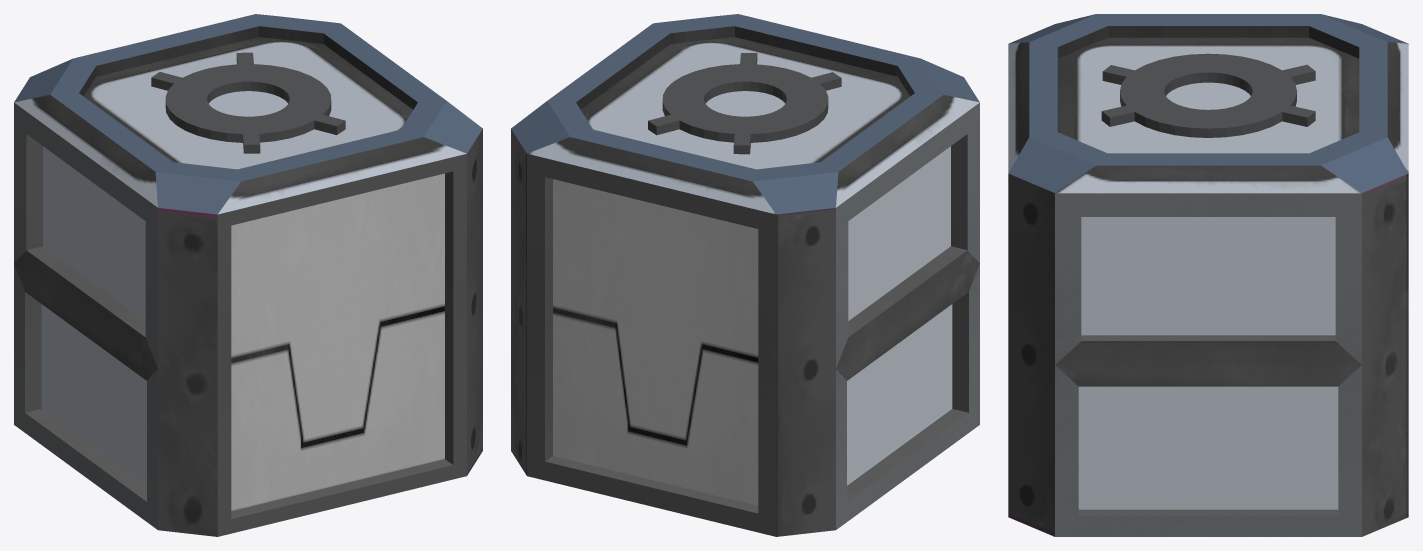
File: MetalCrate.fbx
The picture shows the model from 3 angles, left to right: view 1: azimuth 30°, elevation 25°; view 2: azimuth 150°, elevation 25°; view 3: azimuth 270°, elevation 25°; orthographic projection. The views are drawn at different scales.
Parts seen in each view (by area): view 1: Cube.002; view 2: Cube.002; view 3: Cube.002.
Boxes of the visible parts, bbox=[...] form: Cube.002: bbox=[14, 14, 482, 536]; Cube.002: bbox=[511, 14, 979, 536]; Cube.002: bbox=[1008, 14, 1408, 536].
Size of the model in its own units: 200 by 200 by 200.
Materials: 1 (1 with a texture image).
